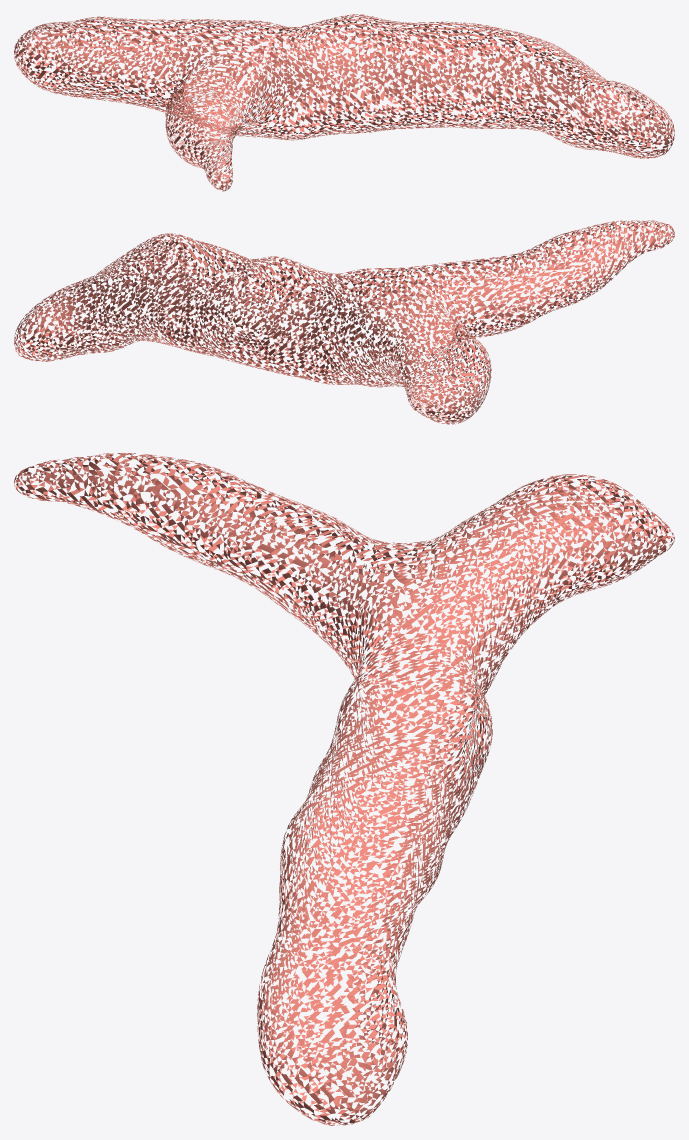
File: diseased.glb
3 views of the same model, one above another, from view 1: azimuth 30°, elevation 25°; view 2: azimuth 150°, elevation 25°; view 3: azimuth 270°, elevation 25° (orthographic). The views are drawn at different scales.
Bounding box in the file's own units: 102 × 36.46 × 71.31.
